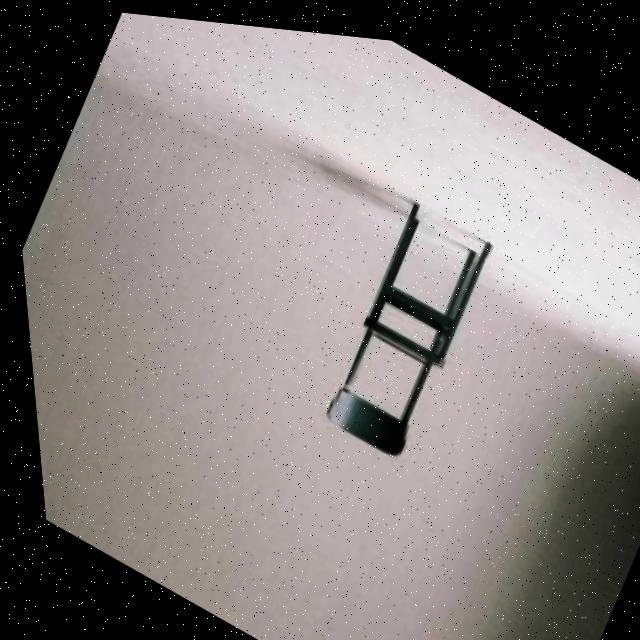sandalye: (296, 180, 506, 465)
